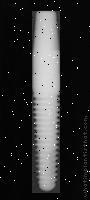Keystone Dental: (31, 11, 60, 193)
